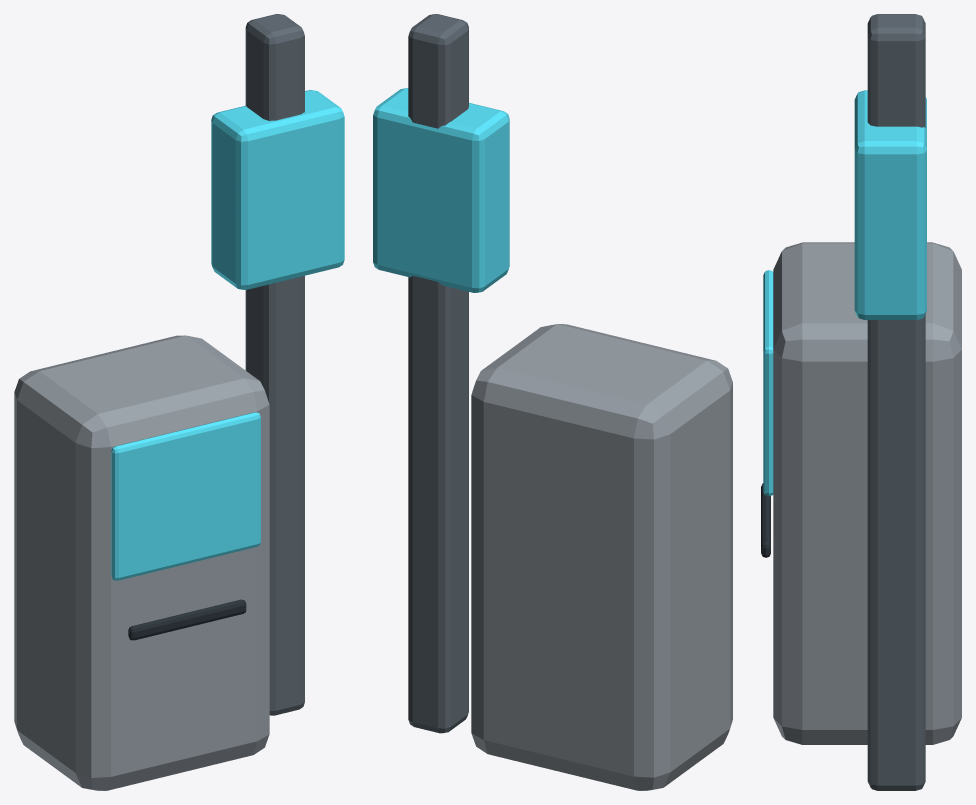
The model's file is 5_Feature.fbx.
3 views of the same model, side by side, from view 1: azimuth 30°, elevation 25°; view 2: azimuth 150°, elevation 25°; view 3: azimuth 270°, elevation 25° (orthographic). The views are drawn at different scales.
Visible parts, largest first — view 1: Body; view 2: Body; view 3: Body.
Boxes of the visible parts, <box> form: Body: <box>14,14,344,790</box>; Body: <box>373,14,732,790</box>; Body: <box>761,14,961,790</box>.
Size of the model in its own units: 1.31 by 2.9 by 0.6925.
